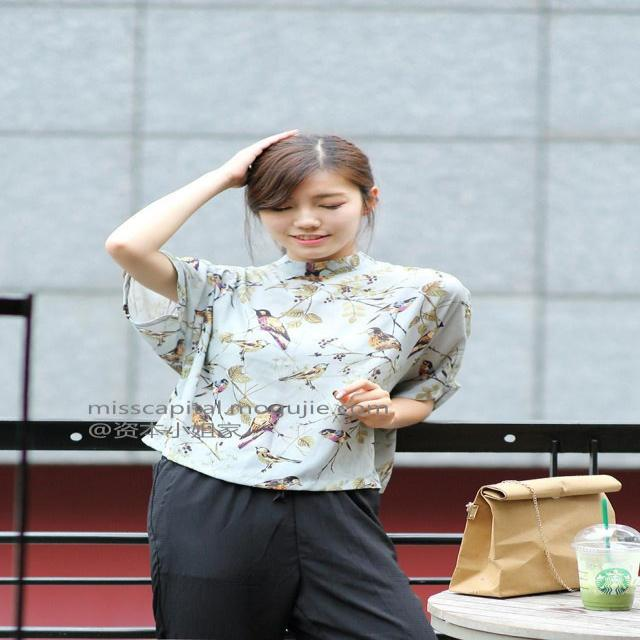short sleeve top: (128, 251, 464, 492)
trousers: (152, 447, 437, 639)
